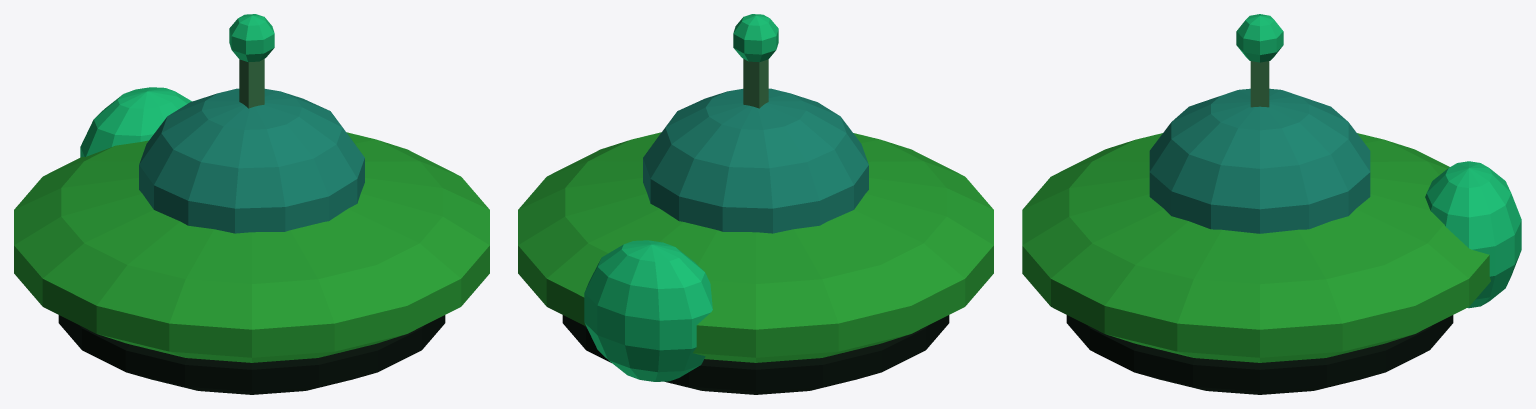
File: FlyingSaucer.fbx
3 renders of one model, left to right at view 1: azimuth 30°, elevation 25°; view 2: azimuth 150°, elevation 25°; view 3: azimuth 270°, elevation 25°, orthographic.
Parts seen in each view (by area): view 1: Saucer; view 2: Saucer; view 3: Saucer.
Boxes of the visible parts, <box> form: Saucer: <box>14,14,489,394</box>; Saucer: <box>518,14,993,394</box>; Saucer: <box>1022,14,1521,394</box>.
Bounding box in the file's own units: 6.24 × 4.72 × 6.45.
